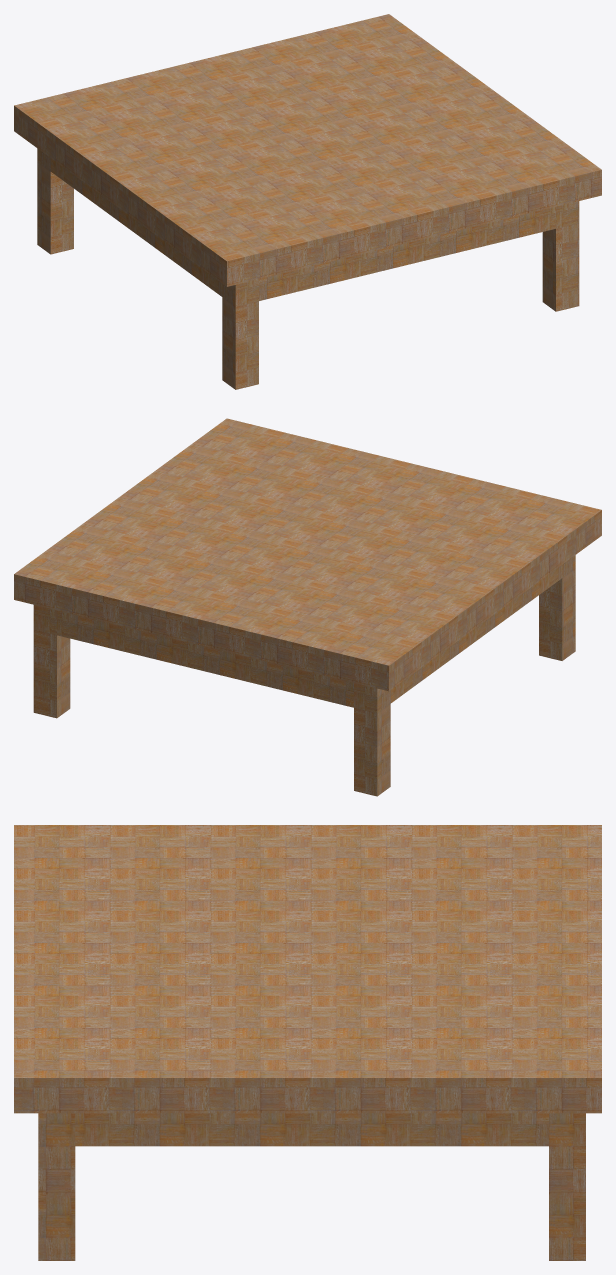
The model's file is table_coffee01.obj.
3 views of the same model, one above another, from view 1: azimuth 30°, elevation 25°; view 2: azimuth 150°, elevation 25°; view 3: azimuth 270°, elevation 25° (orthographic). The views are drawn at different scales.
Visible parts, largest first — view 1: Mesh5 Group2 Model, Mesh2 Group1 Model, Mesh1 Group1 Model, Mesh4 Group1 Model; view 2: Mesh5 Group2 Model, Mesh4 Group1 Model, Mesh3 Group1 Model, Mesh2 Group1 Model; view 3: Mesh5 Group2 Model, Mesh1 Group1 Model, Mesh3 Group1 Model.
Part boxes in pixels (x1,y1,x2,y2): Mesh5 Group2 Model: (14,14,601,300); Mesh2 Group1 Model: (222,279,258,389); Mesh1 Group1 Model: (542,201,579,311); Mesh4 Group1 Model: (37,148,73,254); Mesh5 Group2 Model: (14,418,601,707); Mesh4 Group1 Model: (354,683,390,796); Mesh3 Group1 Model: (33,605,70,718); Mesh2 Group1 Model: (539,555,575,660); Mesh5 Group2 Model: (14,825,601,1146); Mesh1 Group1 Model: (38,1113,75,1260); Mesh3 Group1 Model: (549,1113,585,1260).
Bounding box in the file's own units: 3.63 × 1.29 × 3.57.
